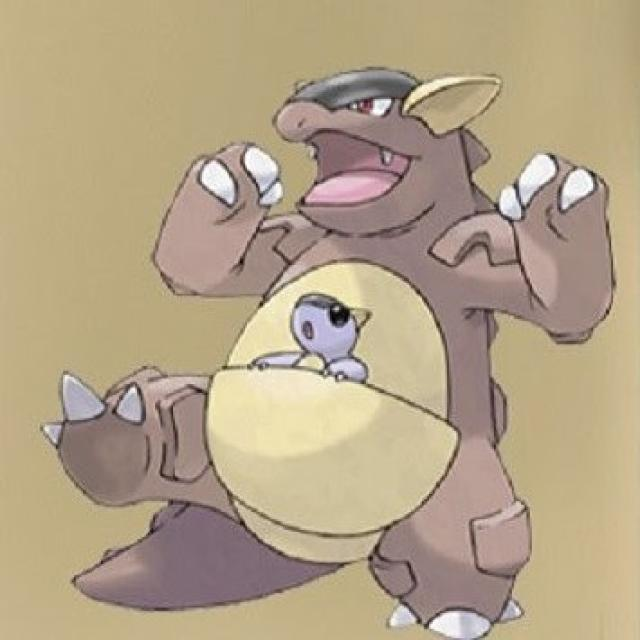Kangaskhan: (91, 70, 617, 582)
